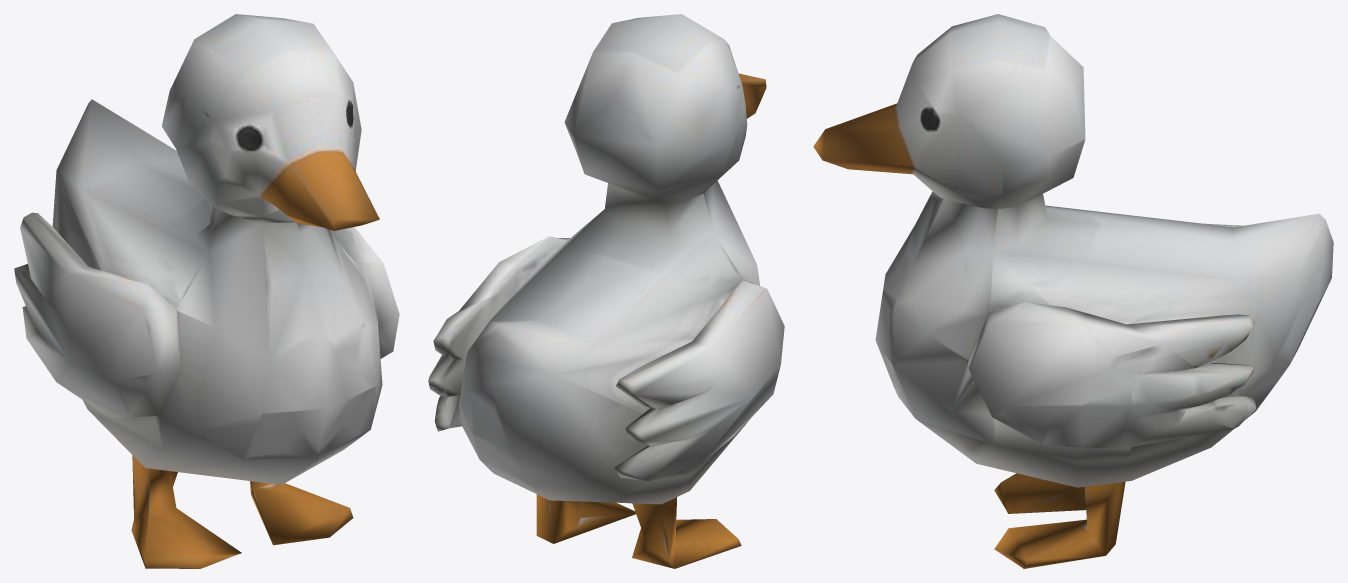
Rendered from duck.glb.
The picture shows the model from 3 angles, left to right: view 1: azimuth 30°, elevation 25°; view 2: azimuth 150°, elevation 25°; view 3: azimuth 270°, elevation 25°; orthographic projection. The views are drawn at different scales.
Visible parts, largest first — view 1: node_0; view 2: node_0; view 3: node_0.
Boxes of the visible parts, x1=… form: node_0: x1=14, y1=14, x2=399, y2=568; node_0: x1=428, y1=14, x2=784, y2=568; node_0: x1=813, y1=14, x2=1333, y2=568.
Bounding box in the file's own units: 0.6417 × 1.1 × 1.04.
Materials: 1 (1 with a texture image).
